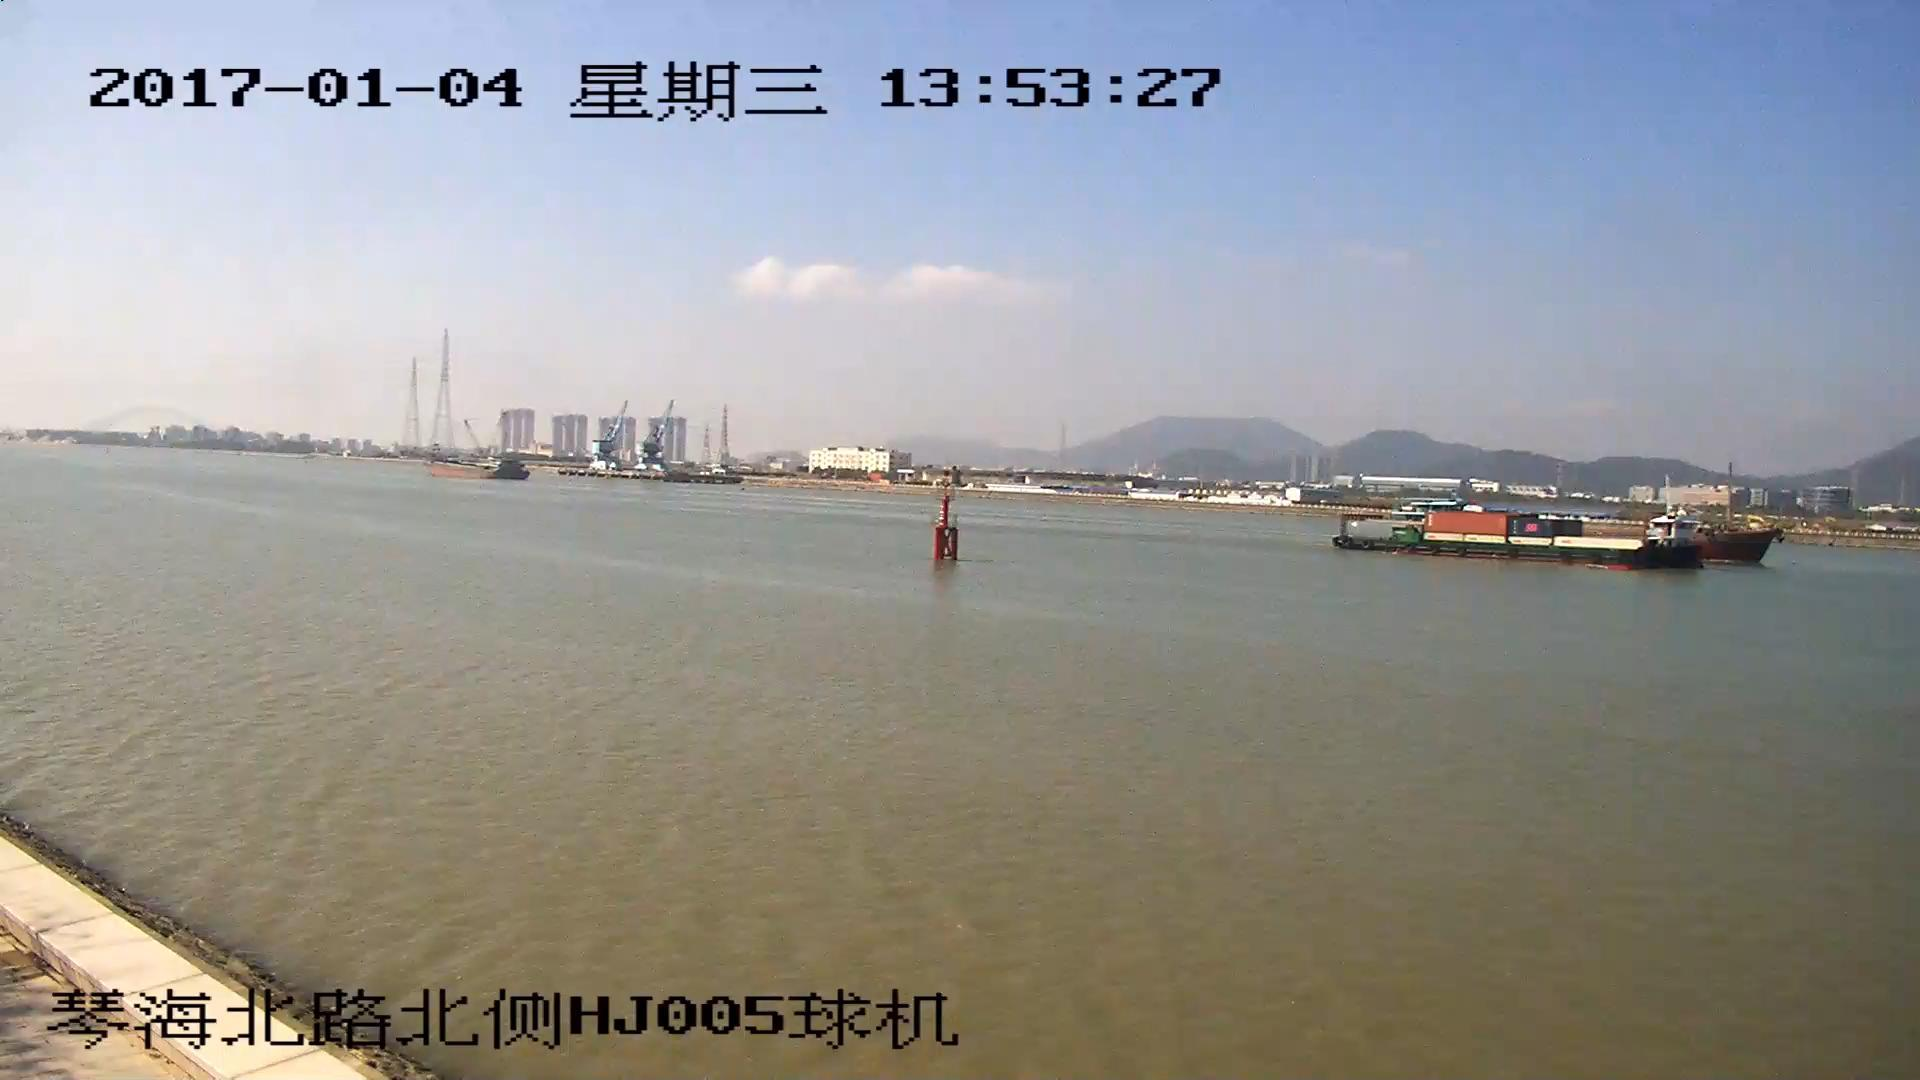Ship: (1346, 498, 1704, 571)
